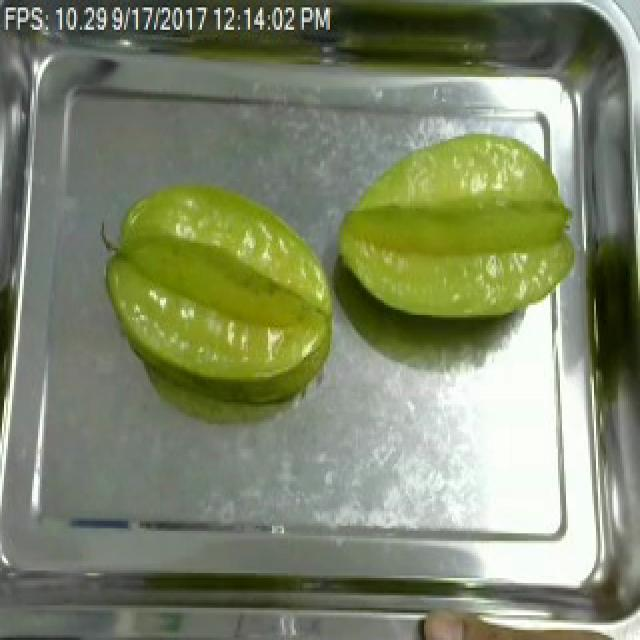fruit: (92, 171, 346, 397), (326, 124, 584, 327)
